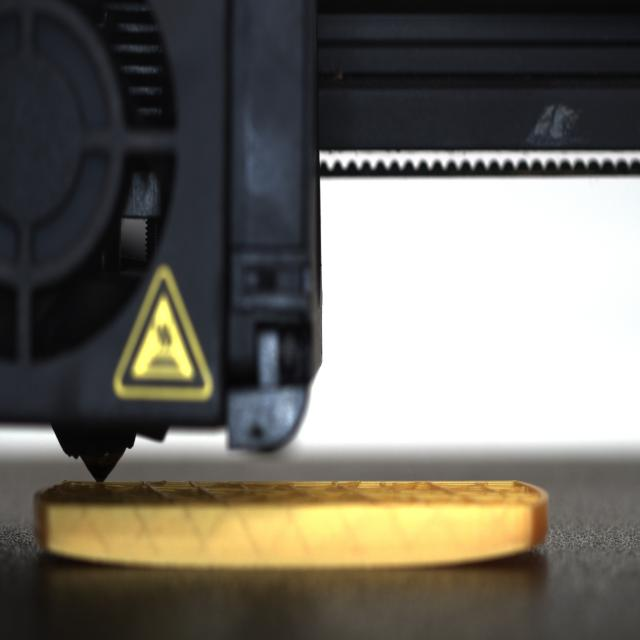Warping: (461, 534, 541, 568)
